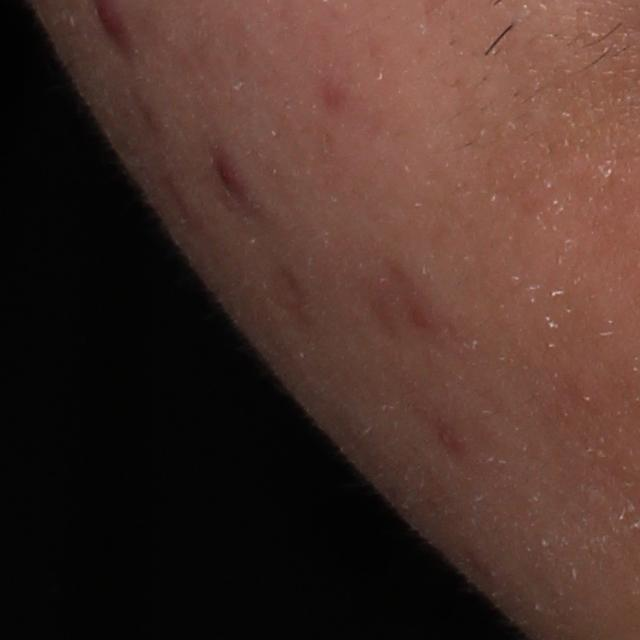papule: (212, 151, 257, 208)
